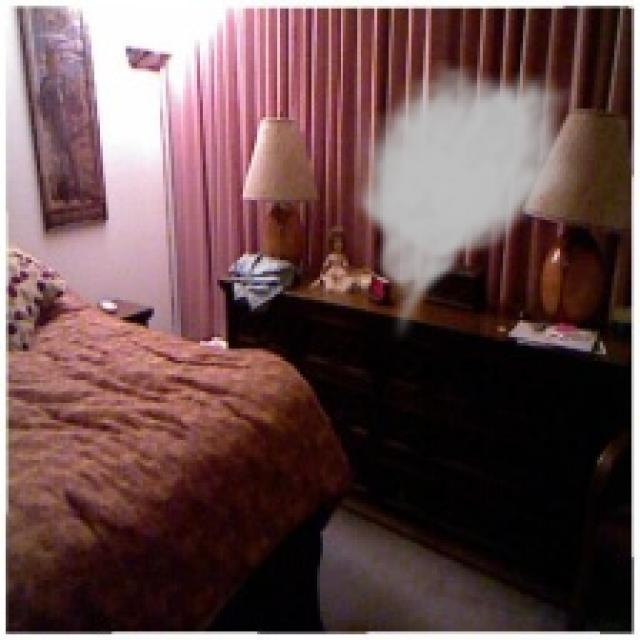smoke: (349, 60, 580, 343)
